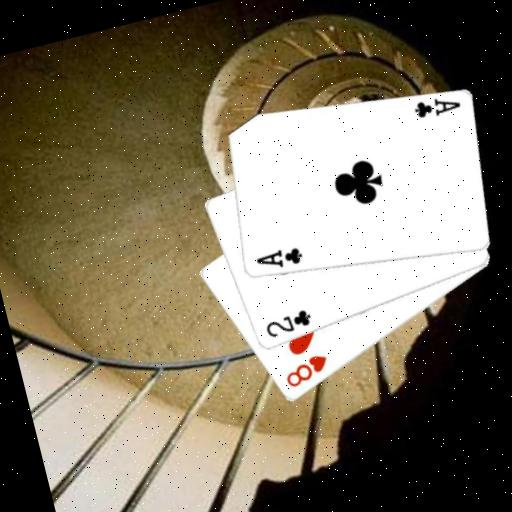2C: (260, 306, 315, 342)
8H: (279, 351, 334, 392)
AC: (251, 241, 306, 276), (408, 89, 463, 124)
